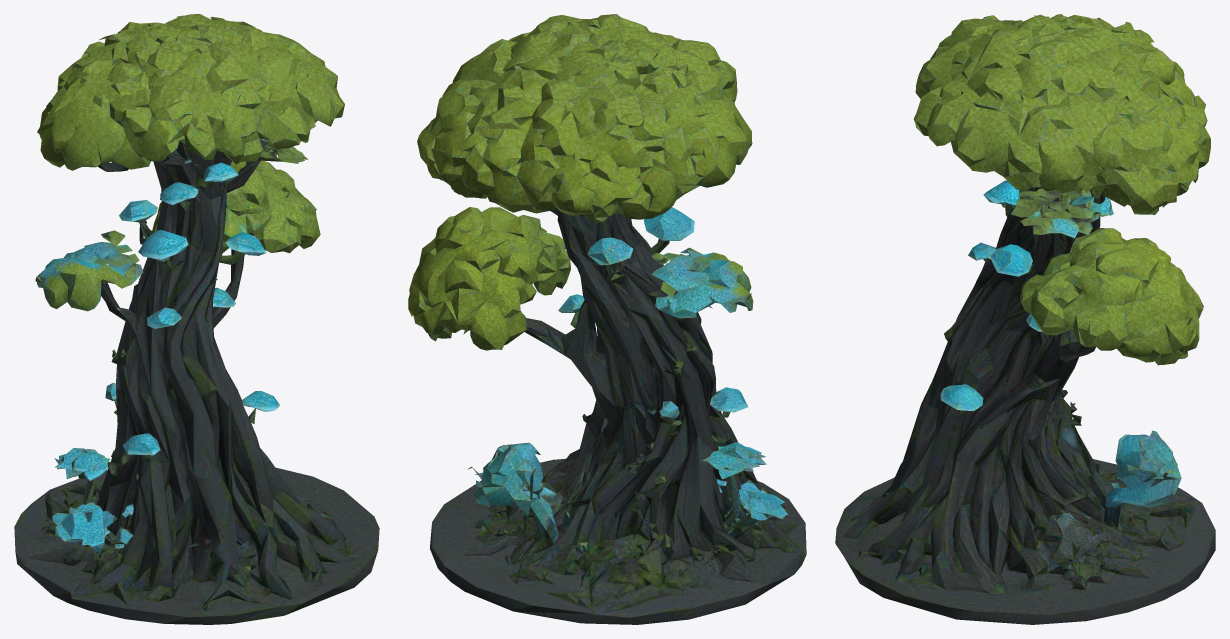
Rendered from balete.glb.
3 views of the same model, side by side, from view 1: azimuth 30°, elevation 25°; view 2: azimuth 150°, elevation 25°; view 3: azimuth 270°, elevation 25° (orthographic). The views are drawn at different scales.
Visible parts, largest first — view 1: mesh_node; view 2: mesh_node; view 3: mesh_node.
Part boxes in pixels (box(x1,y1,x2,y2)): mesh_node: box(14, 14, 379, 624); mesh_node: box(408, 14, 806, 624); mesh_node: box(835, 14, 1215, 624).
Size of the model in its own units: 1.25 by 1.9 by 1.25.
Materials: 1 (1 with a texture image).
